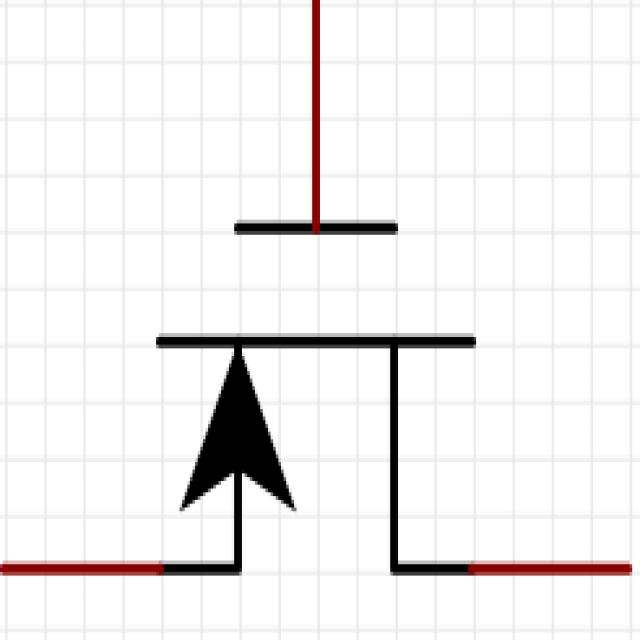pmos: (20, 60, 622, 640)
